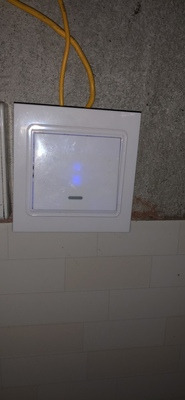switch: (28, 125, 124, 218)
